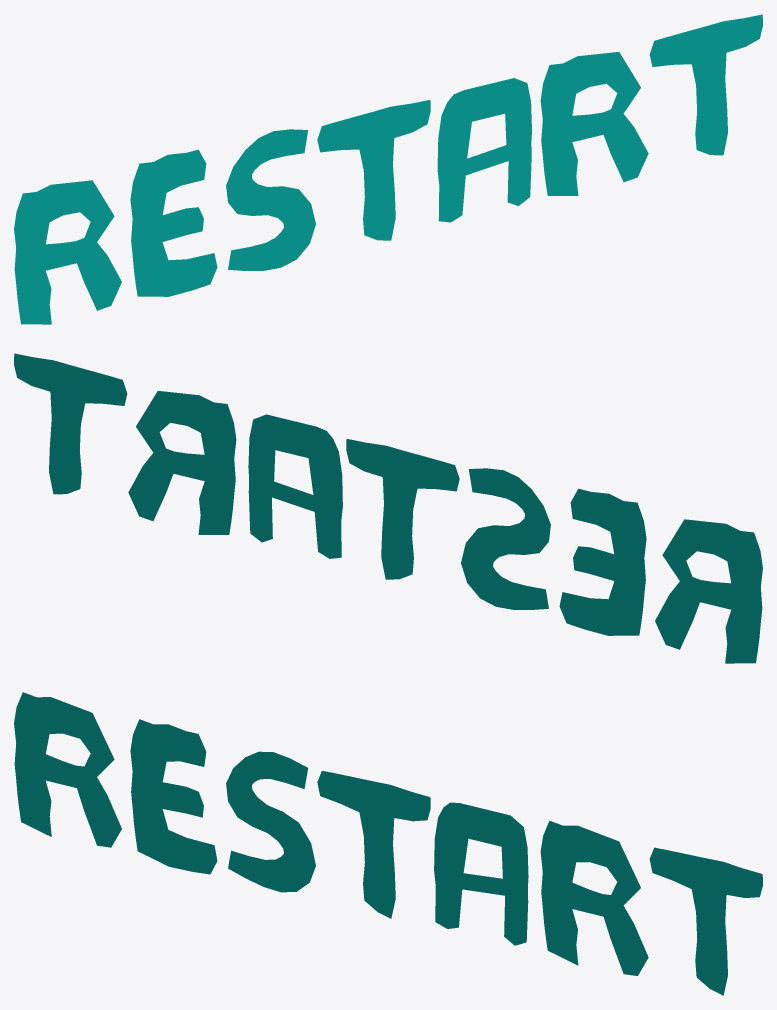
File: mesh_gameover_restart.fbx
3 views of the same model, one above another, from view 1: azimuth 30°, elevation 25°; view 2: azimuth 150°, elevation 25°; view 3: azimuth 330°, elevation 25° (orthographic).
Parts seen in each view (by area): view 1: mesh_gameover_restart; view 2: mesh_gameover_restart; view 3: mesh_gameover_restart.
Part boxes in pixels (x1,y1,x2,y2): mesh_gameover_restart: (14,14,762,324); mesh_gameover_restart: (14,353,762,663); mesh_gameover_restart: (14,692,762,995).
Bounding box in the file's own units: 0.1162 × 0.0211 × 0.000471.
